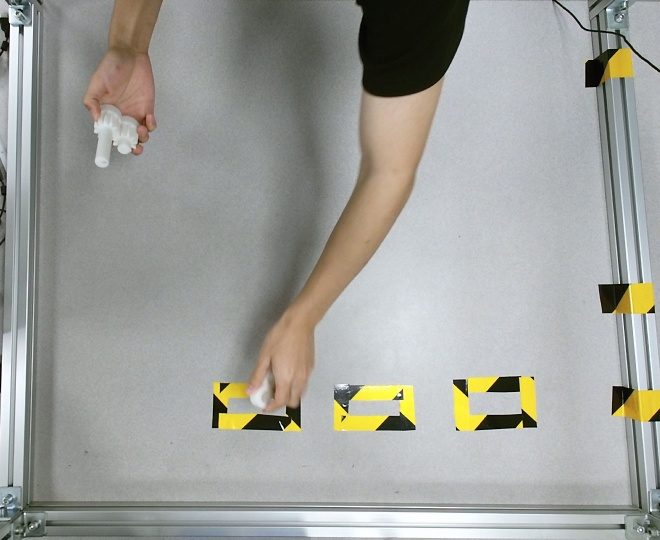stage_3: (95, 104, 140, 167)
